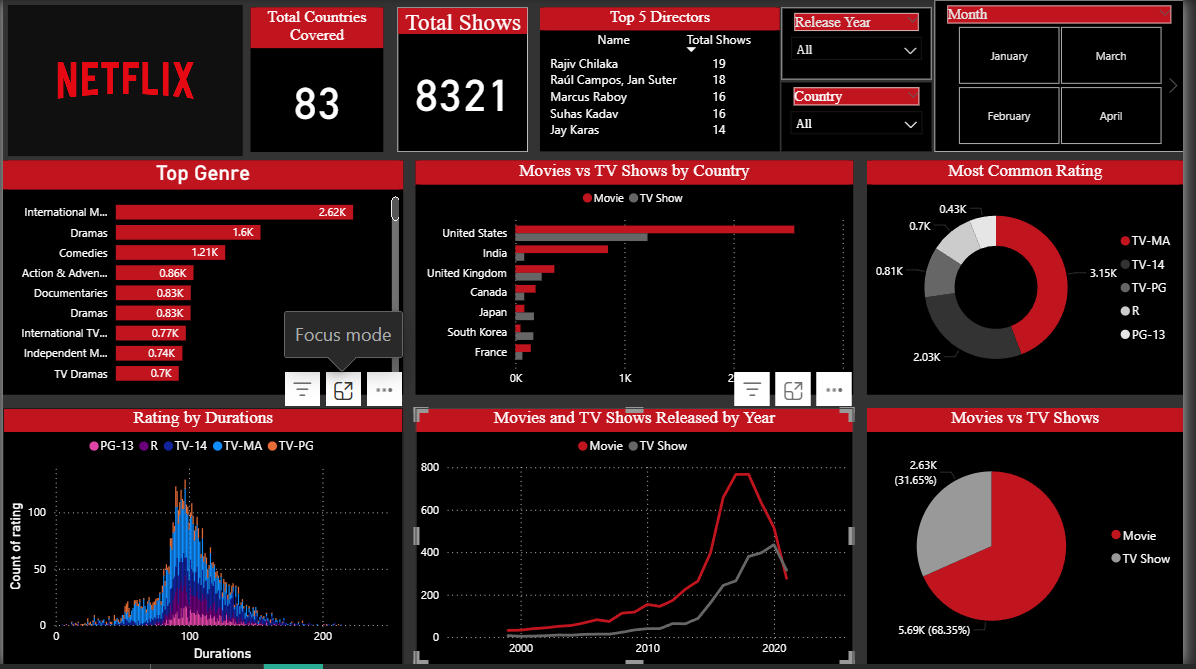

What the dashboard file says about the page in this screenshot:
{"tool":"powerbi","page":{"name":"Page 1","canvas":[1280,720],"ordinal":0},"visuals":[{"type":"pieChart","title":"Movies vs TV Shows","fields":{"Category":["netflix_titles.type"],"Y":["netflix_titles.type"]},"box":[936.9,442.4,343.2,278.1],"z":0},{"type":"card","title":"Total Countries Covered","fields":{"Values":["netflix_titles.Country"]},"box":[268.8,7.9,144.2,156.7],"z":1000},{"type":"card","title":"Total Shows","fields":{"Values":["netflix_titles.show_id"]},"box":[427.9,7.9,141.2,156.7],"z":2000},{"type":"donutChart","title":"Most Common Rating","fields":{"Category":["netflix_titles.rating"],"Y":["netflix_titles.rating"]},"box":[936.9,174,343.2,253.7],"z":3000},{"type":"barChart","title":"Top Genre","fields":{"Y":["netflix_categories.show_id"],"Category":["netflix_categories.listed_in"]},"box":[0,174,434.3,253.7],"z":4000},{"type":"lineChart","title":"Movies and TV Shows Released by Year","fields":{"Y":["netflix_titles.show_id"],"Category":["netflix_titles.release_year"],"Series":["netflix_titles.type"]},"box":[447.3,442.4,475,278.1],"z":5000},{"type":"tableEx","title":"Top 5 Directors","fields":{"Values":["netflix_titles.director","netflix_titles.show_id"]},"box":[582.3,8.1,260.2,156.1],"z":6000},{"type":"columnChart","title":"Rating by Durations","fields":{"Series":["netflix_titles.rating"],"Category":["netflix_titles.Durations"],"Y":["netflix_titles.rating"]},"box":[0,442.4,434.3,278.1],"z":7000},{"type":"clusteredBarChart","title":"Movies vs TV Shows by Country","fields":{"Category":["netflix_titles.Country"],"Y":["netflix_titles.show_id"],"Series":["netflix_titles.type"]},"box":[447.3,174,475,253.7],"z":8000},{"type":"image","box":[0,0,265.1,174],"z":9000},{"type":"slicer","fields":{"Values":["netflix_titles.release_year"]},"box":[844.2,8.1,162.7,78.1],"z":10000},{"type":"slicer","fields":{"Values":["netflix_titles.date_added.Variation.Date Hierarchy.Month"]},"box":[1009.6,0,270.4,164.6],"z":12000},{"type":"slicer","fields":{"Values":["netflix_titles.Country"]},"box":[844.2,89.5,162.7,74.8],"z":12001}]}

Visuals, with their boxes in screenshot pixels (x1, y1, x2, y2), scaled from the page's 1280x720 canvas onto the 1196x669 screenshot:
"Movies vs TV Shows" pieChart: x1=875, y1=411, x2=1195, y2=668
"Total Countries Covered" card: x1=251, y1=7, x2=386, y2=153
"Total Shows" card: x1=400, y1=7, x2=532, y2=153
"Most Common Rating" donutChart: x1=875, y1=162, x2=1195, y2=397
"Top Genre" barChart: x1=0, y1=162, x2=406, y2=397
"Movies and TV Shows Released by Year" lineChart: x1=418, y1=411, x2=862, y2=668
"Top 5 Directors" tableEx: x1=544, y1=8, x2=787, y2=153
"Rating by Durations" columnChart: x1=0, y1=411, x2=406, y2=668
"Movies vs TV Shows by Country" clusteredBarChart: x1=418, y1=162, x2=862, y2=397
image: x1=0, y1=0, x2=248, y2=162
slicer - netflix_titles.release_year: x1=789, y1=8, x2=941, y2=80
slicer - netflix_titles.date_added.Variation.Date Hierarchy.Month: x1=943, y1=0, x2=1195, y2=153
slicer - netflix_titles.Country: x1=789, y1=83, x2=941, y2=153
